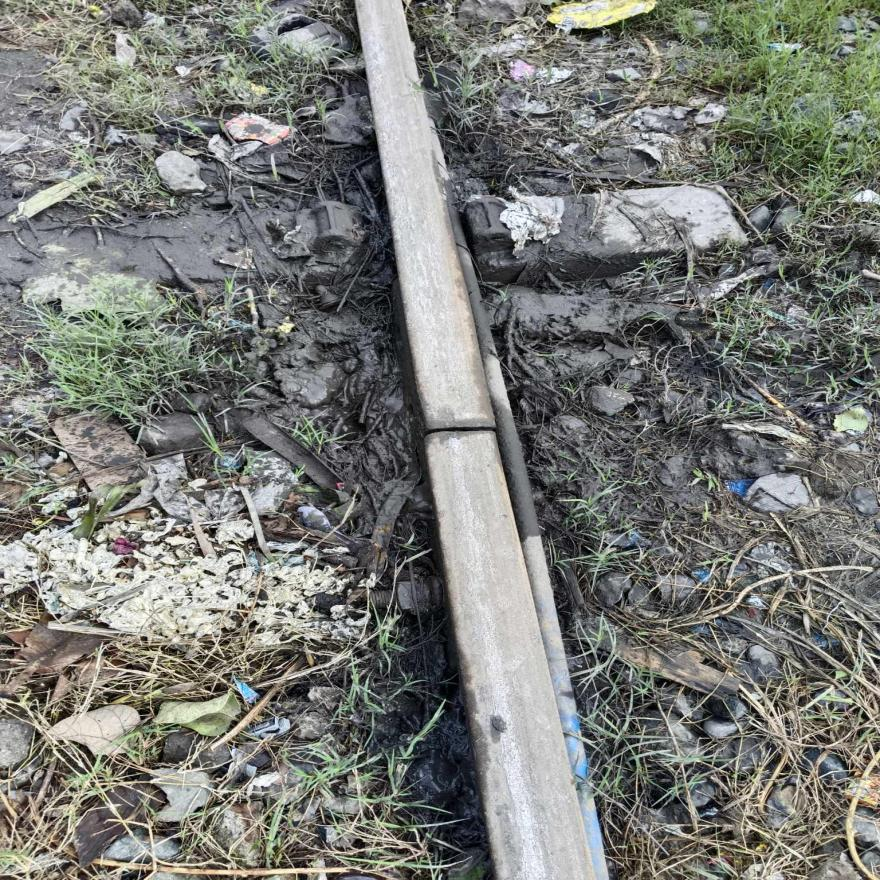railway-gap: (370, 378, 545, 481)
